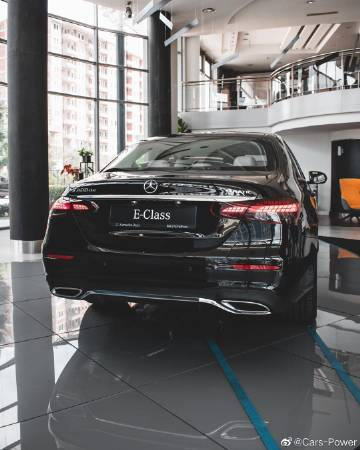su7: (35, 121, 326, 331)
